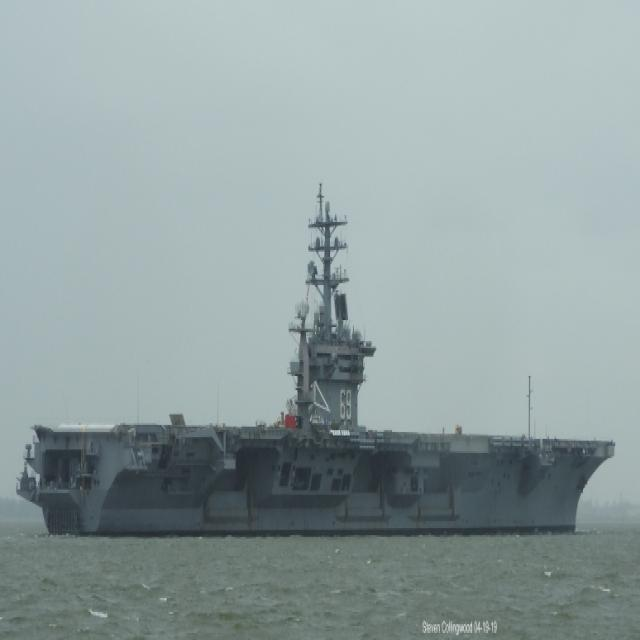Portanaves: (15, 167, 621, 548)
